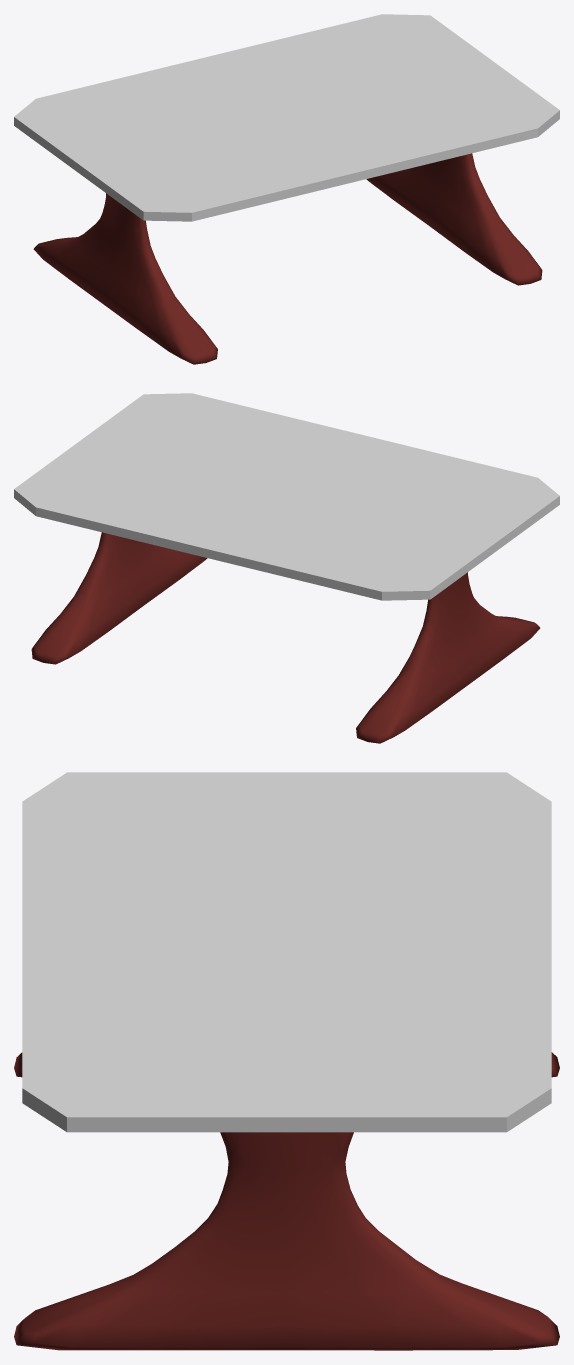
Rendered from mesa.fbx.
3 renders of one model, top to bottom at view 1: azimuth 30°, elevation 25°; view 2: azimuth 150°, elevation 25°; view 3: azimuth 270°, elevation 25°, orthographic. The views are drawn at different scales.
Parts seen in each view (by area): view 1: Tabla, Pata, Pata.001; view 2: Tabla, Pata, Pata.001; view 3: Tabla, Pata.001.
Boxes of the visible parts, <box> form: Tabla: <box>14,14,559,221</box>; Pata: <box>33,193,217,364</box>; Pata.001: <box>366,153,542,285</box>; Tabla: <box>14,393,559,600</box>; Pata: <box>356,572,540,743</box>; Pata.001: <box>31,532,207,664</box>; Tabla: <box>22,772,551,1132</box>; Pata.001: <box>14,1132,559,1350</box>.
Bounding box in the file's own units: 7.5 × 11.21 × 3.96.
